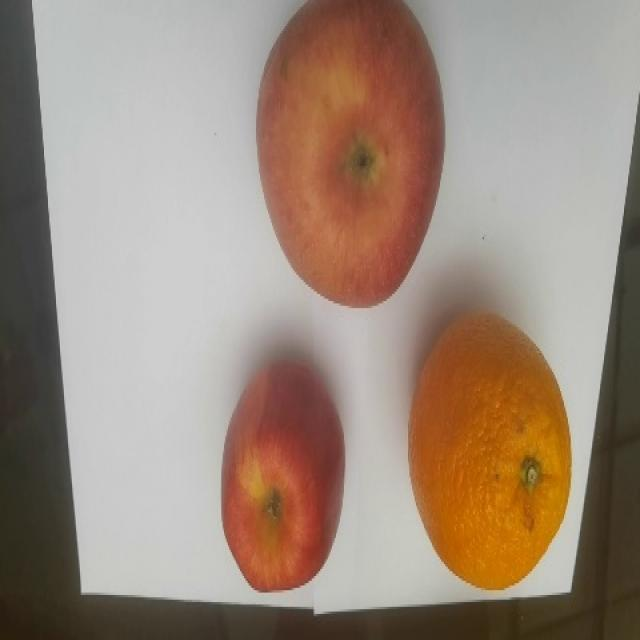Apple: (255, 0, 445, 308), (220, 358, 345, 592)
Orange: (406, 309, 572, 590)
